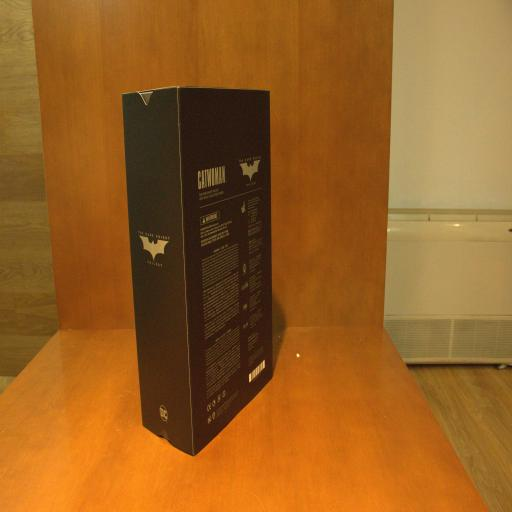catwoman: (122, 87, 273, 456)
